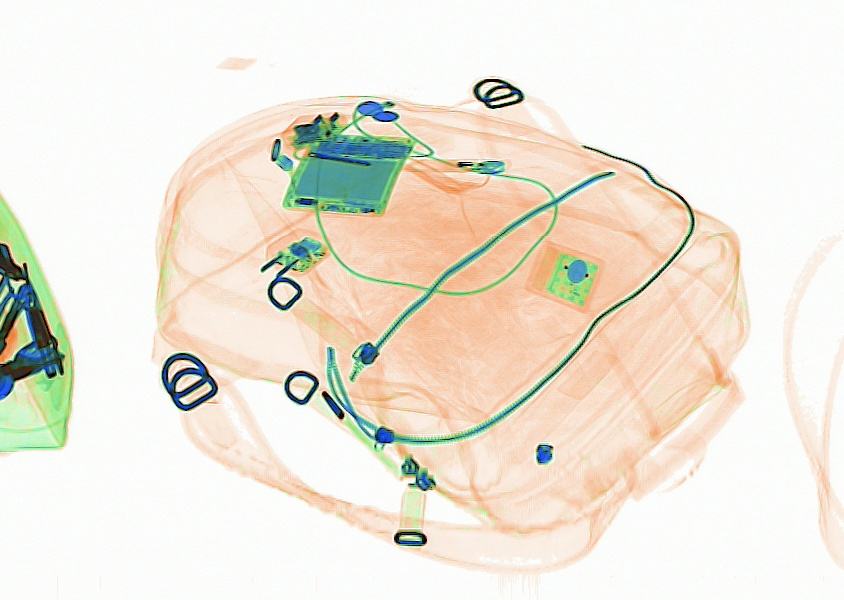lighter: (405, 153, 508, 176)
